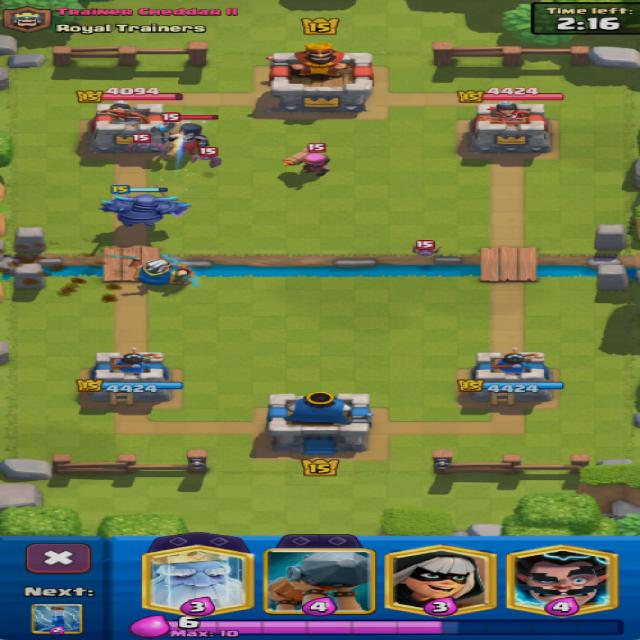Enemy-Firecracker: (284, 149, 329, 176)
Enemy-KingTower: (269, 43, 372, 113)
Enemy-NightWitch: (169, 123, 209, 162)
Enemy-PrincessTower: (470, 101, 549, 154), (88, 100, 165, 153)
